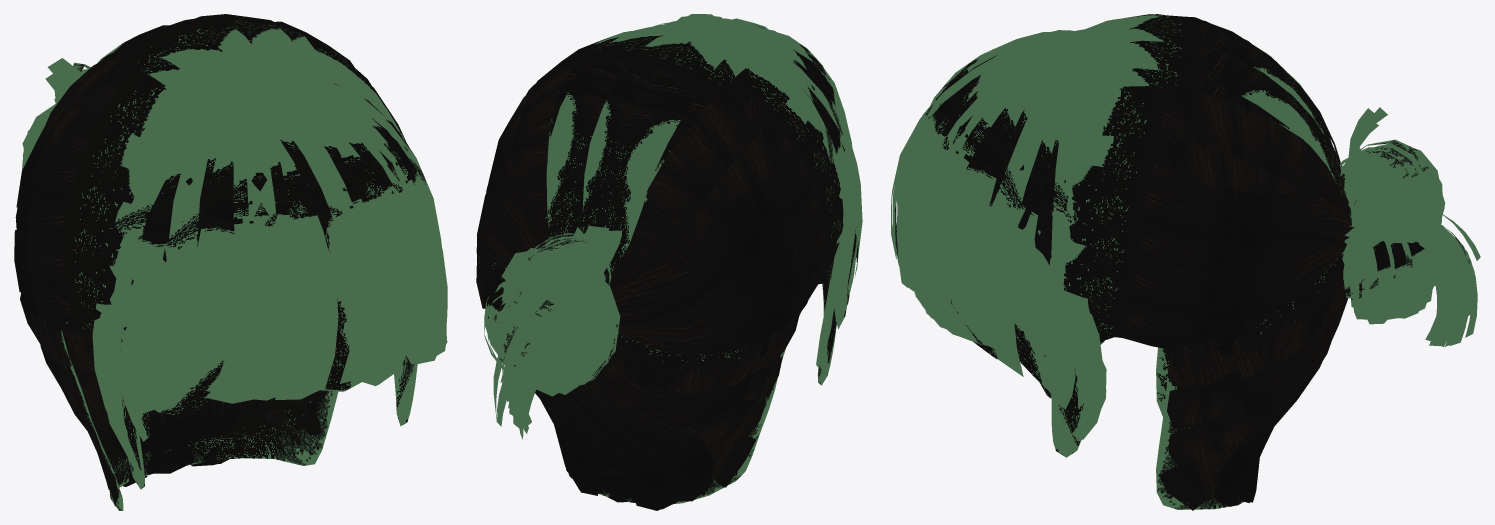
File: female_kid_hair.gltf
The picture shows the model from 3 angles, left to right: view 1: azimuth 30°, elevation 25°; view 2: azimuth 150°, elevation 25°; view 3: azimuth 270°, elevation 25°; orthographic projection. The views are drawn at different scales.
Parts seen in each view (by area): view 1: female_kid_hair; view 2: female_kid_hair; view 3: female_kid_hair.
Boxes of the visible parts, x1,y1,x2,y2 form: female_kid_hair: [14, 14, 447, 510]; female_kid_hair: [476, 14, 862, 510]; female_kid_hair: [891, 14, 1480, 510].
Bounding box in the file's own units: 16.94 × 22.23 × 26.43.
1 material, 1 textured.
